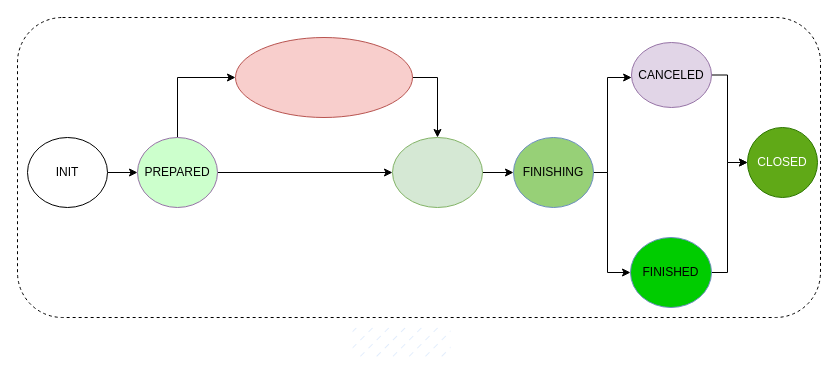
The diagram is 838 pixels wide and 375 high, and some of its shapes have lost their labels. Each missing label, with the box of its shape:
OperatorStage: (352, 327, 450, 357)
PRECONDITION_NOT_READY: (234, 36, 412, 118)
PROCESSING: (392, 136, 482, 208)
